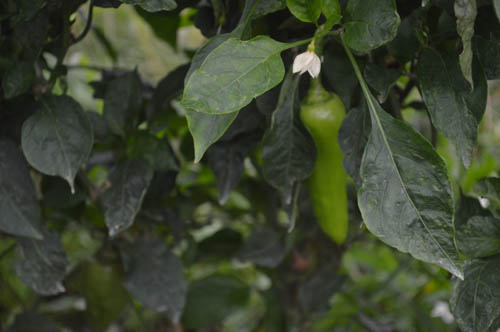ChiliPepper: (297, 95, 350, 246)
